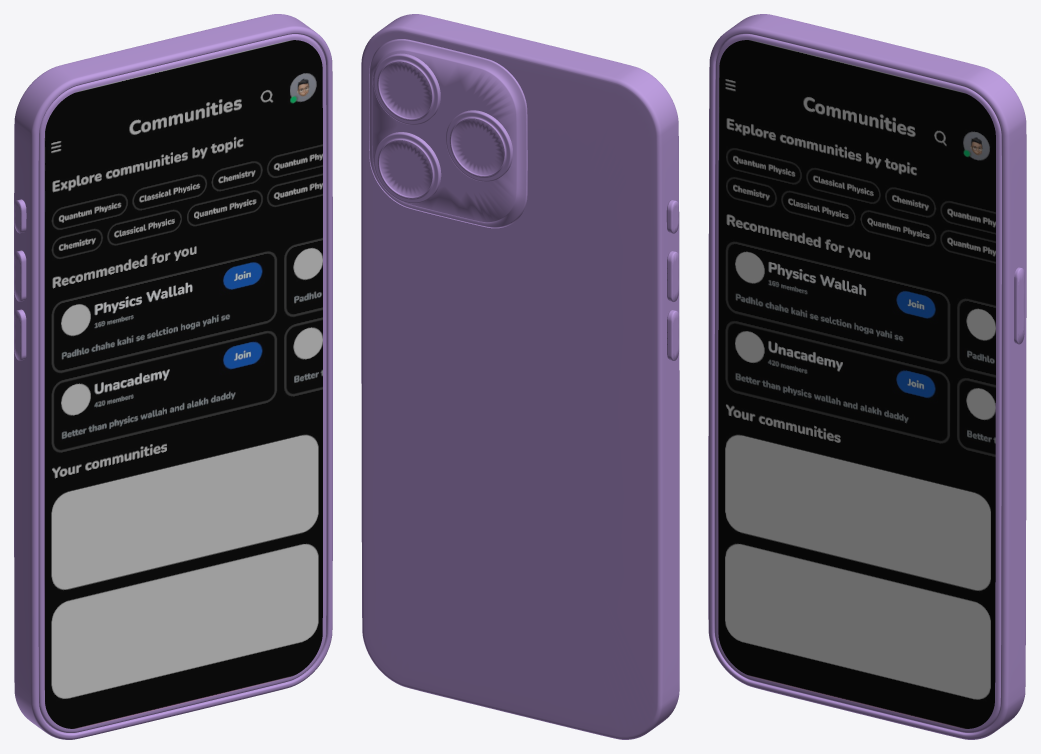
3 renders of one model, left to right at view 1: azimuth 30°, elevation 25°; view 2: azimuth 150°, elevation 25°; view 3: azimuth 330°, elevation 25°, orthographic.
Visible parts, largest first — view 1: Plane.017, Plane.016; view 2: Plane.016; view 3: Plane.017, Plane.016.
Boxes of the visible parts, bbox=[...] form: Plane.017: bbox=[44, 40, 322, 728]; Plane.016: bbox=[14, 14, 332, 739]; Plane.016: bbox=[361, 14, 679, 739]; Plane.017: bbox=[718, 40, 995, 728]; Plane.016: bbox=[708, 14, 1026, 739].
Size of the model in its own units: 2.05 by 4.18 by 0.3224.
Materials: 2 (1 with a texture image).
